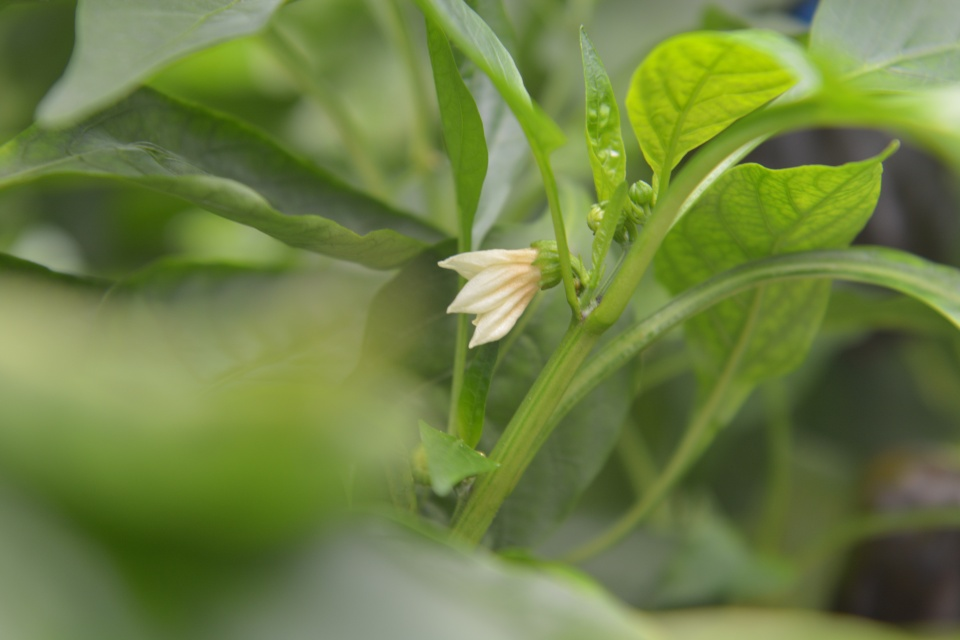flower: (436, 244, 543, 350)
